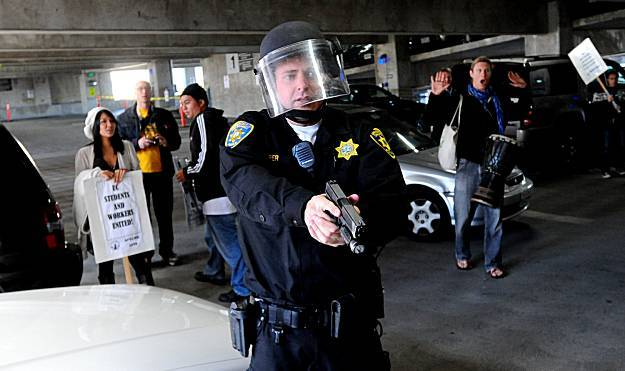pistol: (316, 175, 367, 256)
